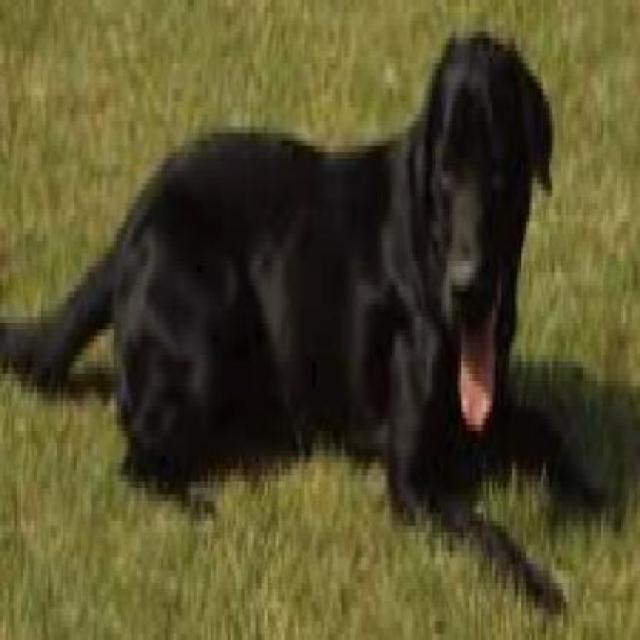Dog: (1, 29, 598, 605)
